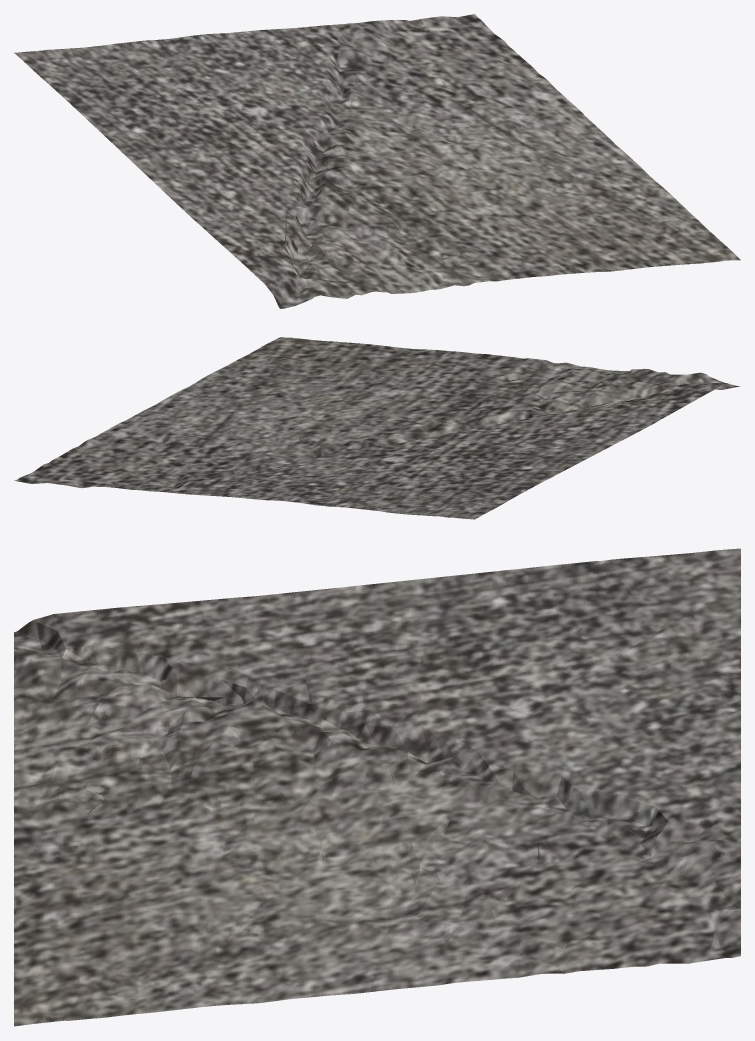
3 renders of one model, top to bottom at view 1: azimuth 30°, elevation 25°; view 2: azimuth 150°, elevation 25°; view 3: azimuth 270°, elevation 25°, orthographic. The views are drawn at different scales.
Size of the model in its own units: 0.8373 by 0.217 by 0.8374.
Materials: 2 (2 with a texture image).
